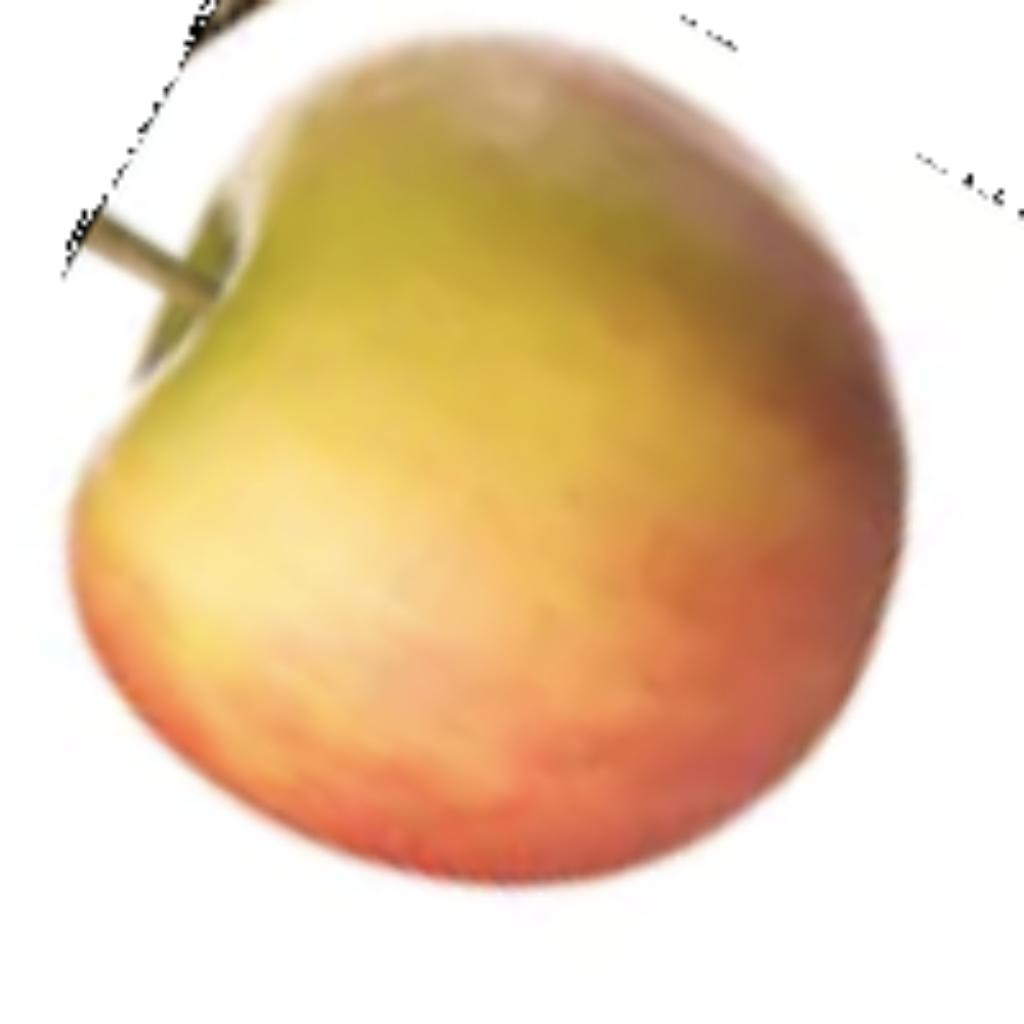apple: (51, 15, 916, 901)
